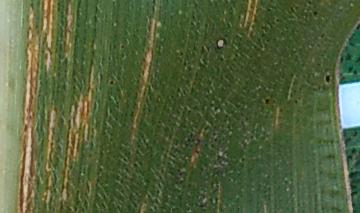tarspot: (261, 93, 272, 109), (321, 72, 333, 86), (106, 76, 118, 88)
